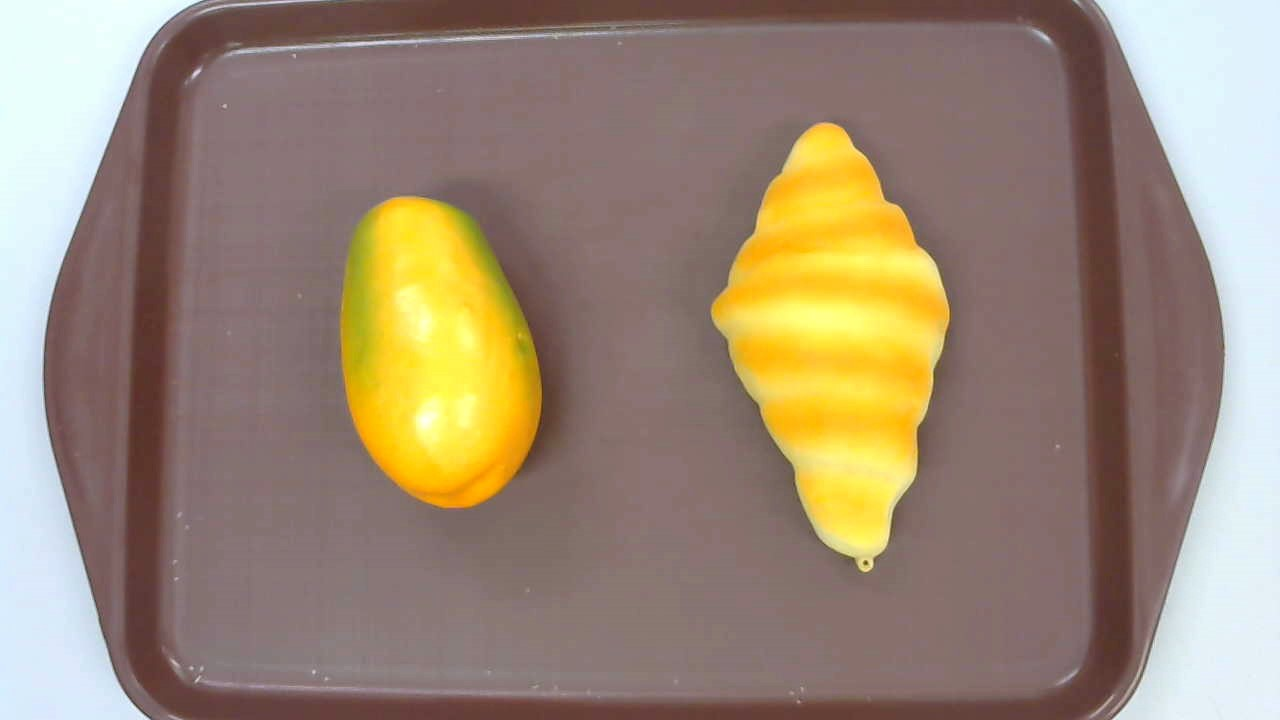croissant: (711, 122, 952, 572)
papya: (339, 195, 542, 509)
